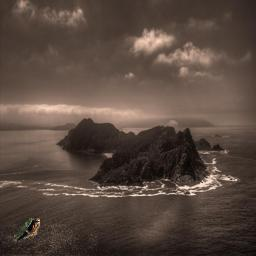Swallow: (14, 218, 40, 242)
